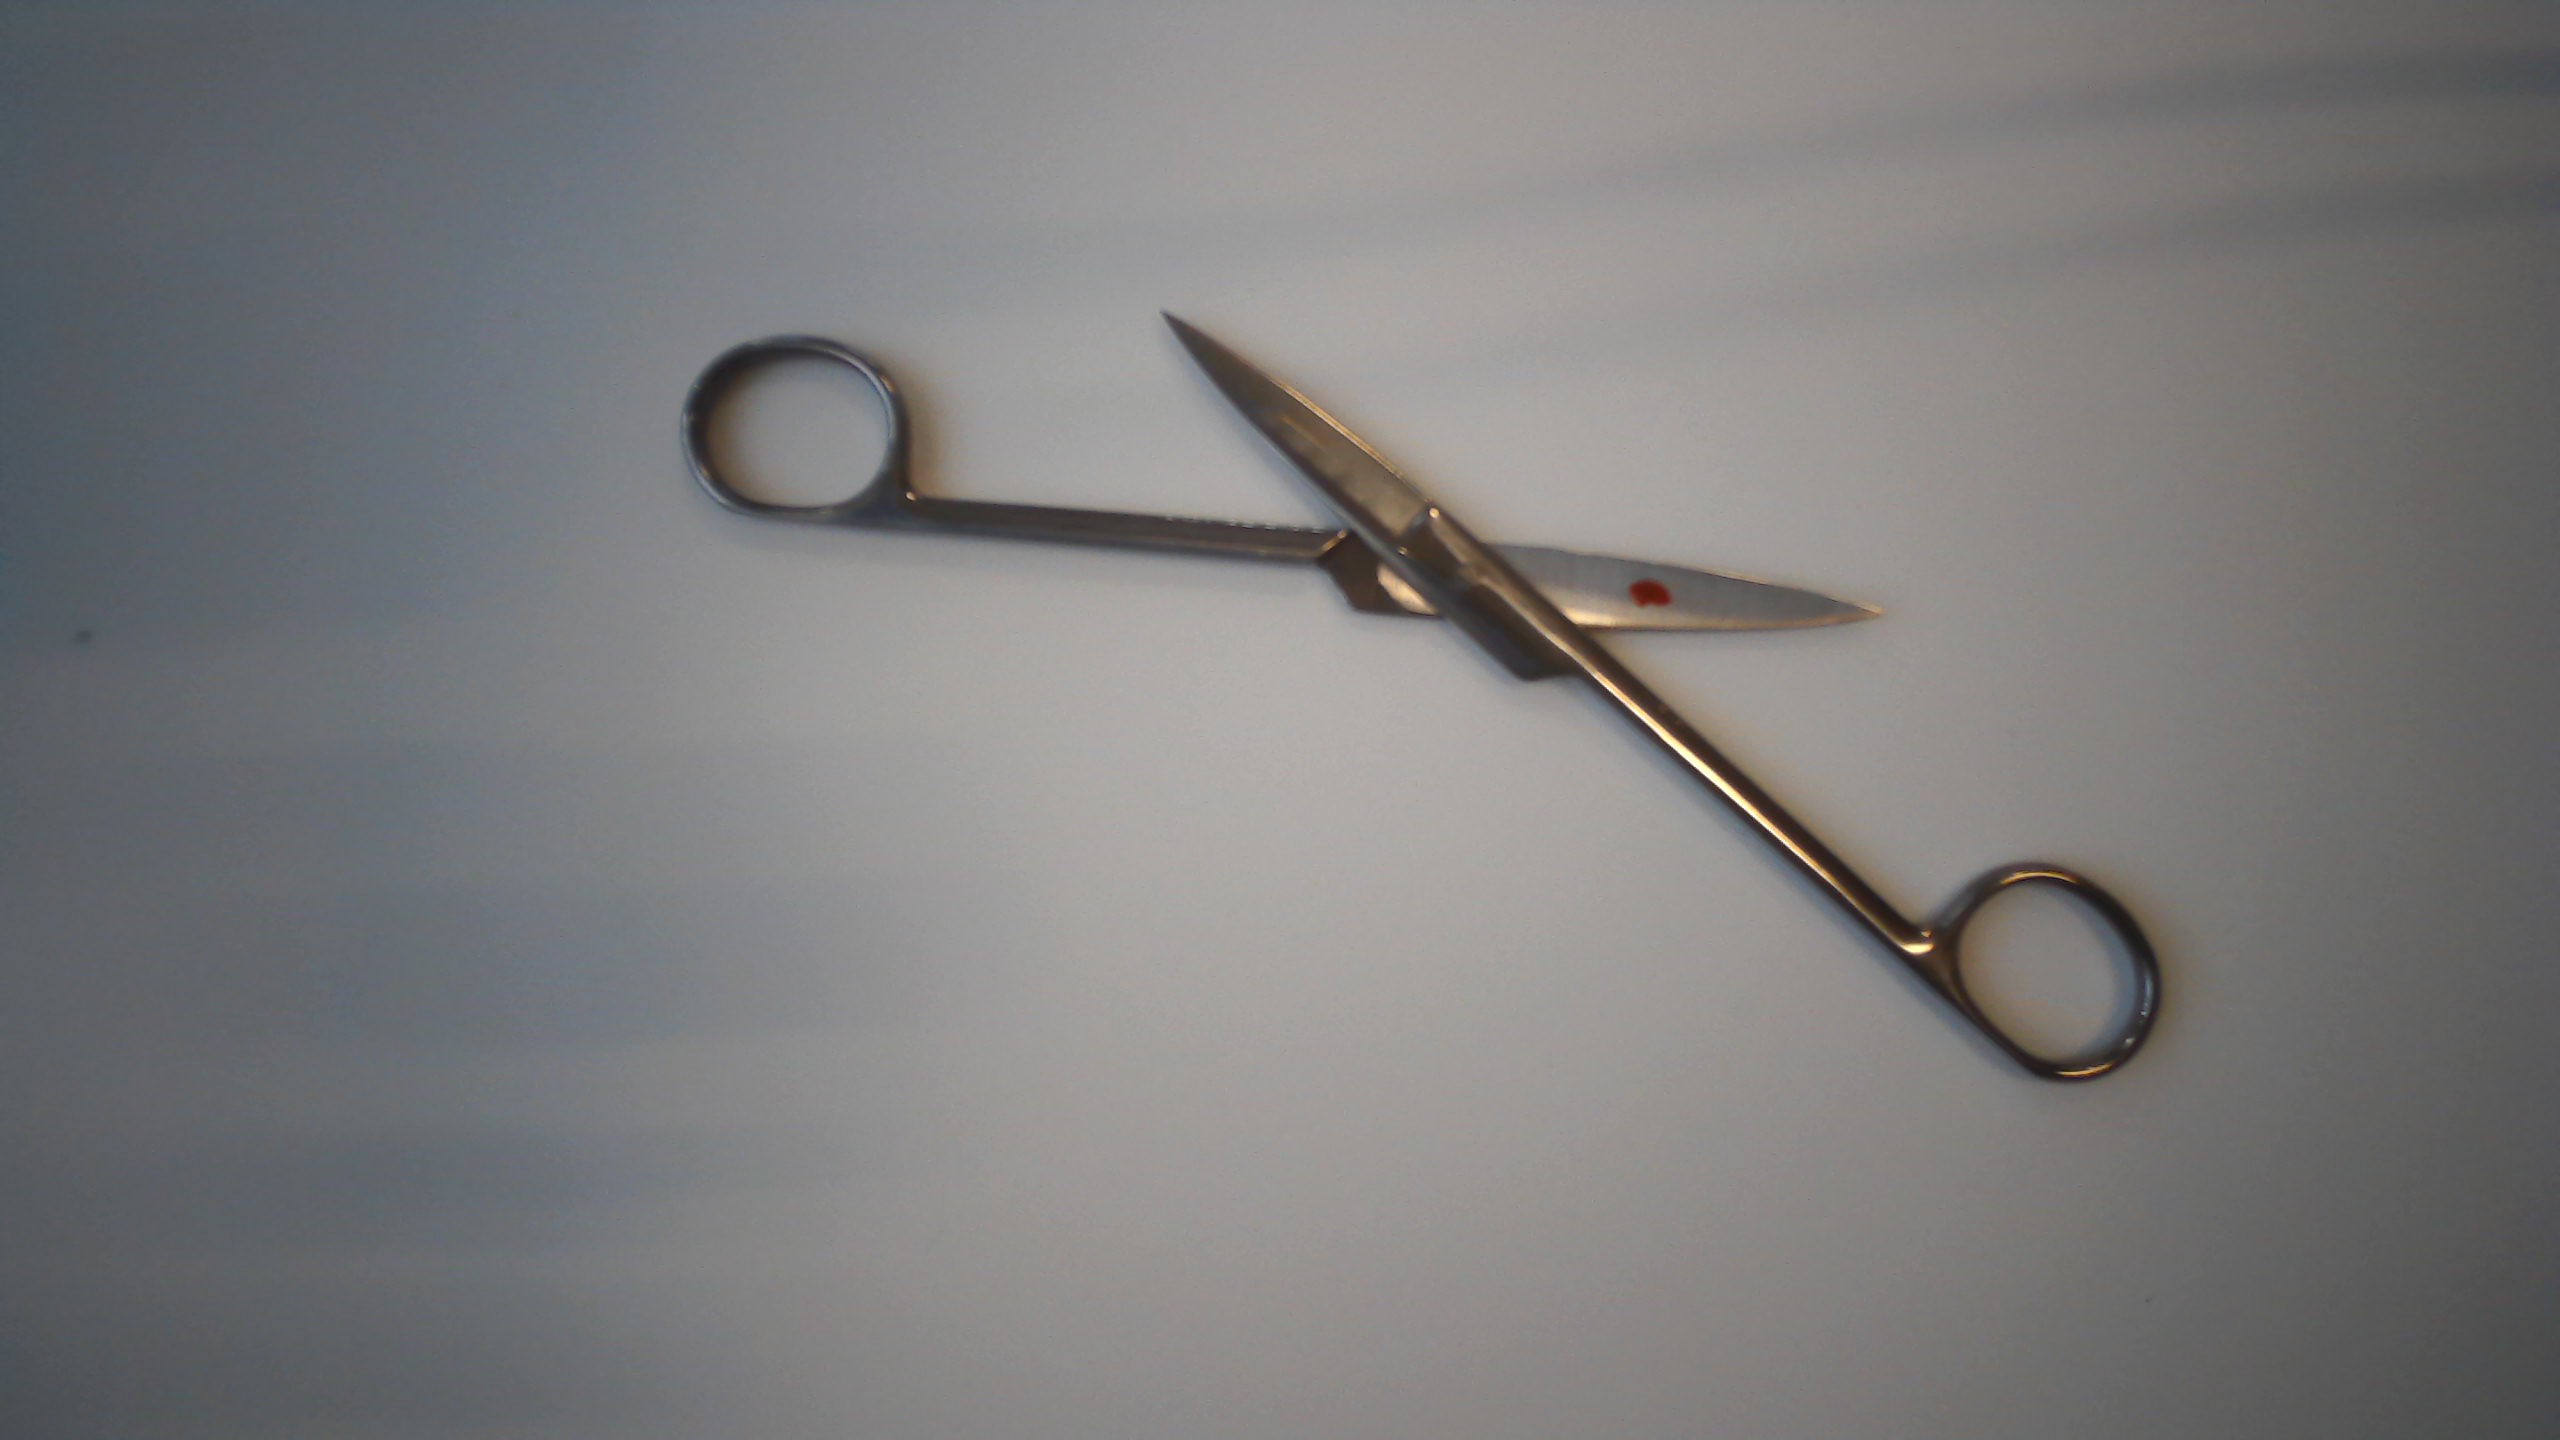Stain: (1618, 573, 1677, 619)
